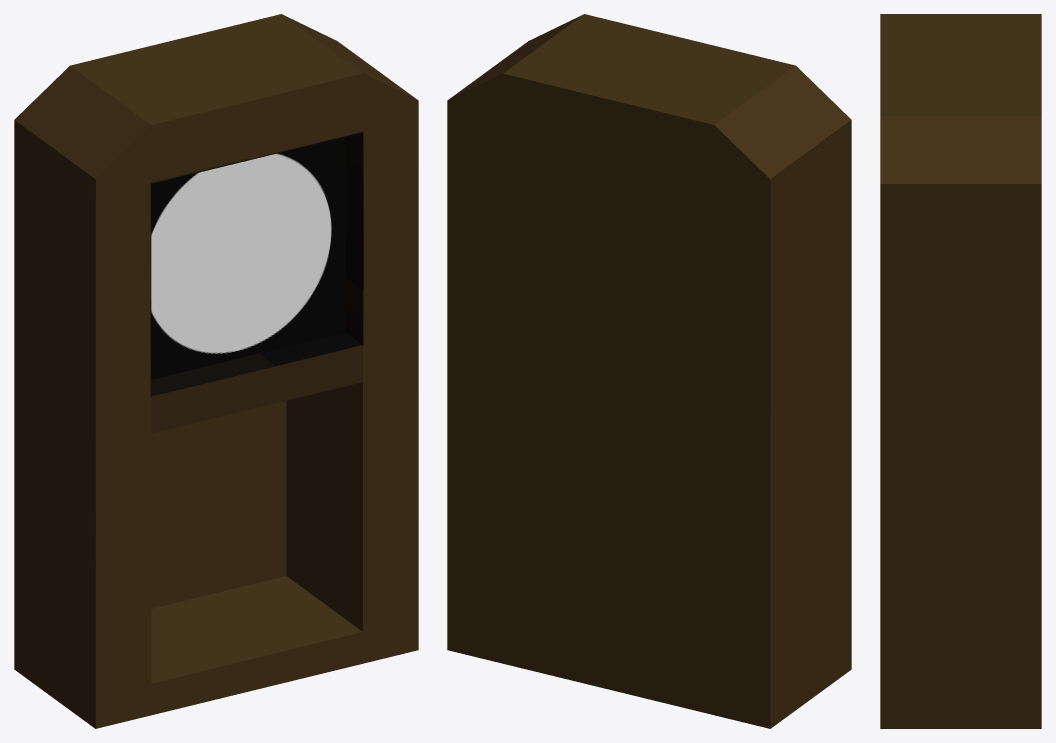
File: Clock.fbx
3 renders of one model, left to right at view 1: azimuth 30°, elevation 25°; view 2: azimuth 150°, elevation 25°; view 3: azimuth 270°, elevation 25°, orthographic.
Visible parts, largest first — view 1: Clock; view 2: Clock; view 3: Clock.
Part boxes in pixels (x1,y1,x2,y2): Clock: (14,14,418,728); Clock: (447,14,851,728); Clock: (880,14,1041,728).
Size of the model in its own units: 2.29 by 4 by 1.
